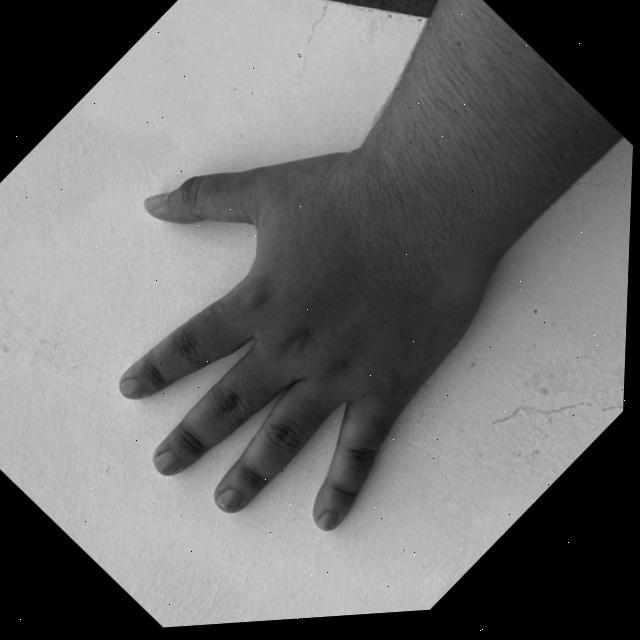no-gloves: (5, 61, 544, 612)
